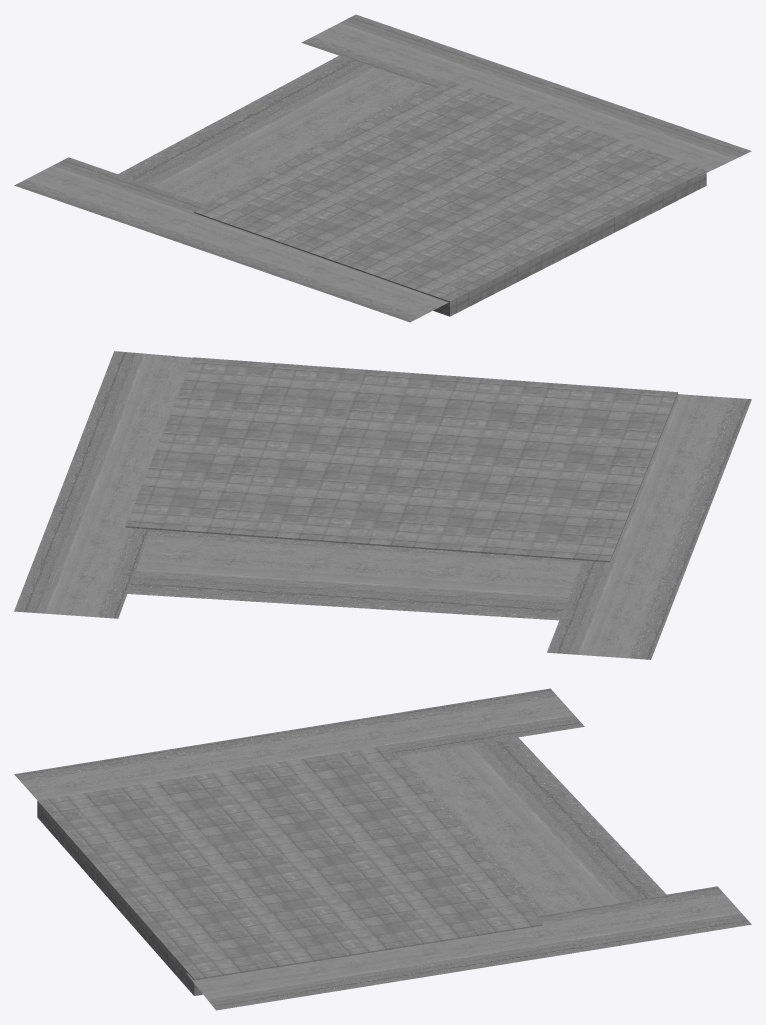
The model's file is JRP_OLD_Floor.FBX.
3 renders of one model, top to bottom at view 1: azimuth 30°, elevation 25°; view 2: azimuth 150°, elevation 25°; view 3: azimuth 270°, elevation 25°, orthographic. The views are drawn at different scales.
Parts seen in each view (by area): view 1: Box839, road_old002, road_old001, road_old; view 2: Box839, road_old002, road_old, road_old001; view 3: Box839, road_old002, road_old, road_old001.
Part boxes in pixels (x1,y1,x2,y2): Box839: [194, 81, 706, 316]; road_old002: [114, 55, 436, 205]; road_old001: [14, 157, 448, 322]; road_old: [301, 14, 751, 177]; Box839: [125, 357, 677, 562]; road_old002: [127, 529, 582, 620]; road_old: [14, 351, 192, 618]; road_old001: [547, 394, 751, 659]; Box839: [37, 745, 542, 995]; road_old002: [396, 737, 666, 916]; road_old: [186, 886, 751, 1010]; road_old001: [14, 688, 584, 800].
Size of the model in its own units: 7865 by 195 by 7617.
Materials: 2 (2 with a texture image).
